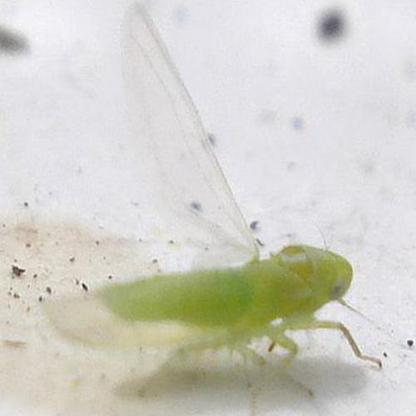green-leafhopper: (51, 246, 353, 386)
